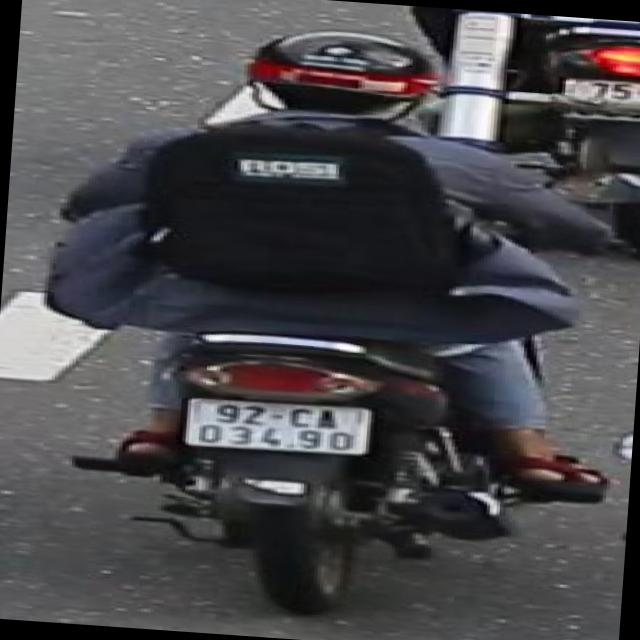LP: (175, 389, 382, 463)
helmet: (235, 19, 442, 136)
